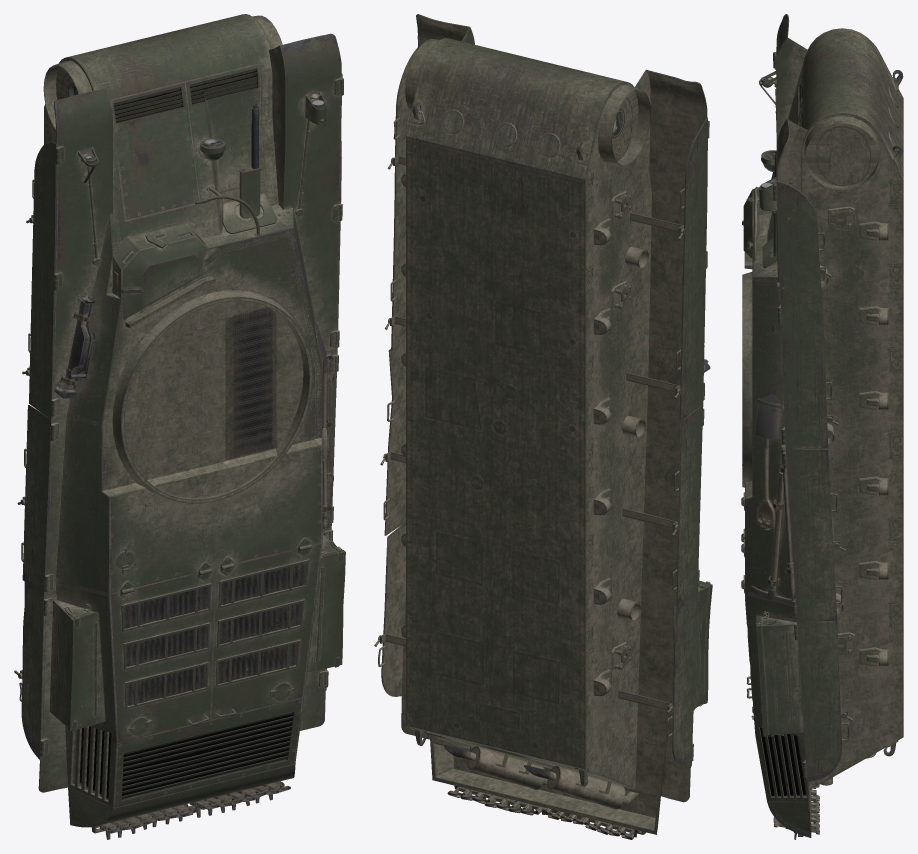
Rendered from Hull.glb.
The picture shows the model from 3 angles, left to right: view 1: azimuth 30°, elevation 25°; view 2: azimuth 150°, elevation 25°; view 3: azimuth 270°, elevation 25°; orthographic projection. The views are drawn at different scales.
Parts seen in each view (by area): view 1: set_0_group_0; view 2: set_0_group_0; view 3: set_0_group_0.
Part boxes in pixels (box(x1,y1,x2,y2)): set_0_group_0: box(14, 14, 345, 839); set_0_group_0: box(374, 14, 712, 839); set_0_group_0: box(741, 14, 903, 839).
Size of the model in its own units: 2.43 by 6.05 by 1.22.
Materials: 1 (1 with a texture image).
